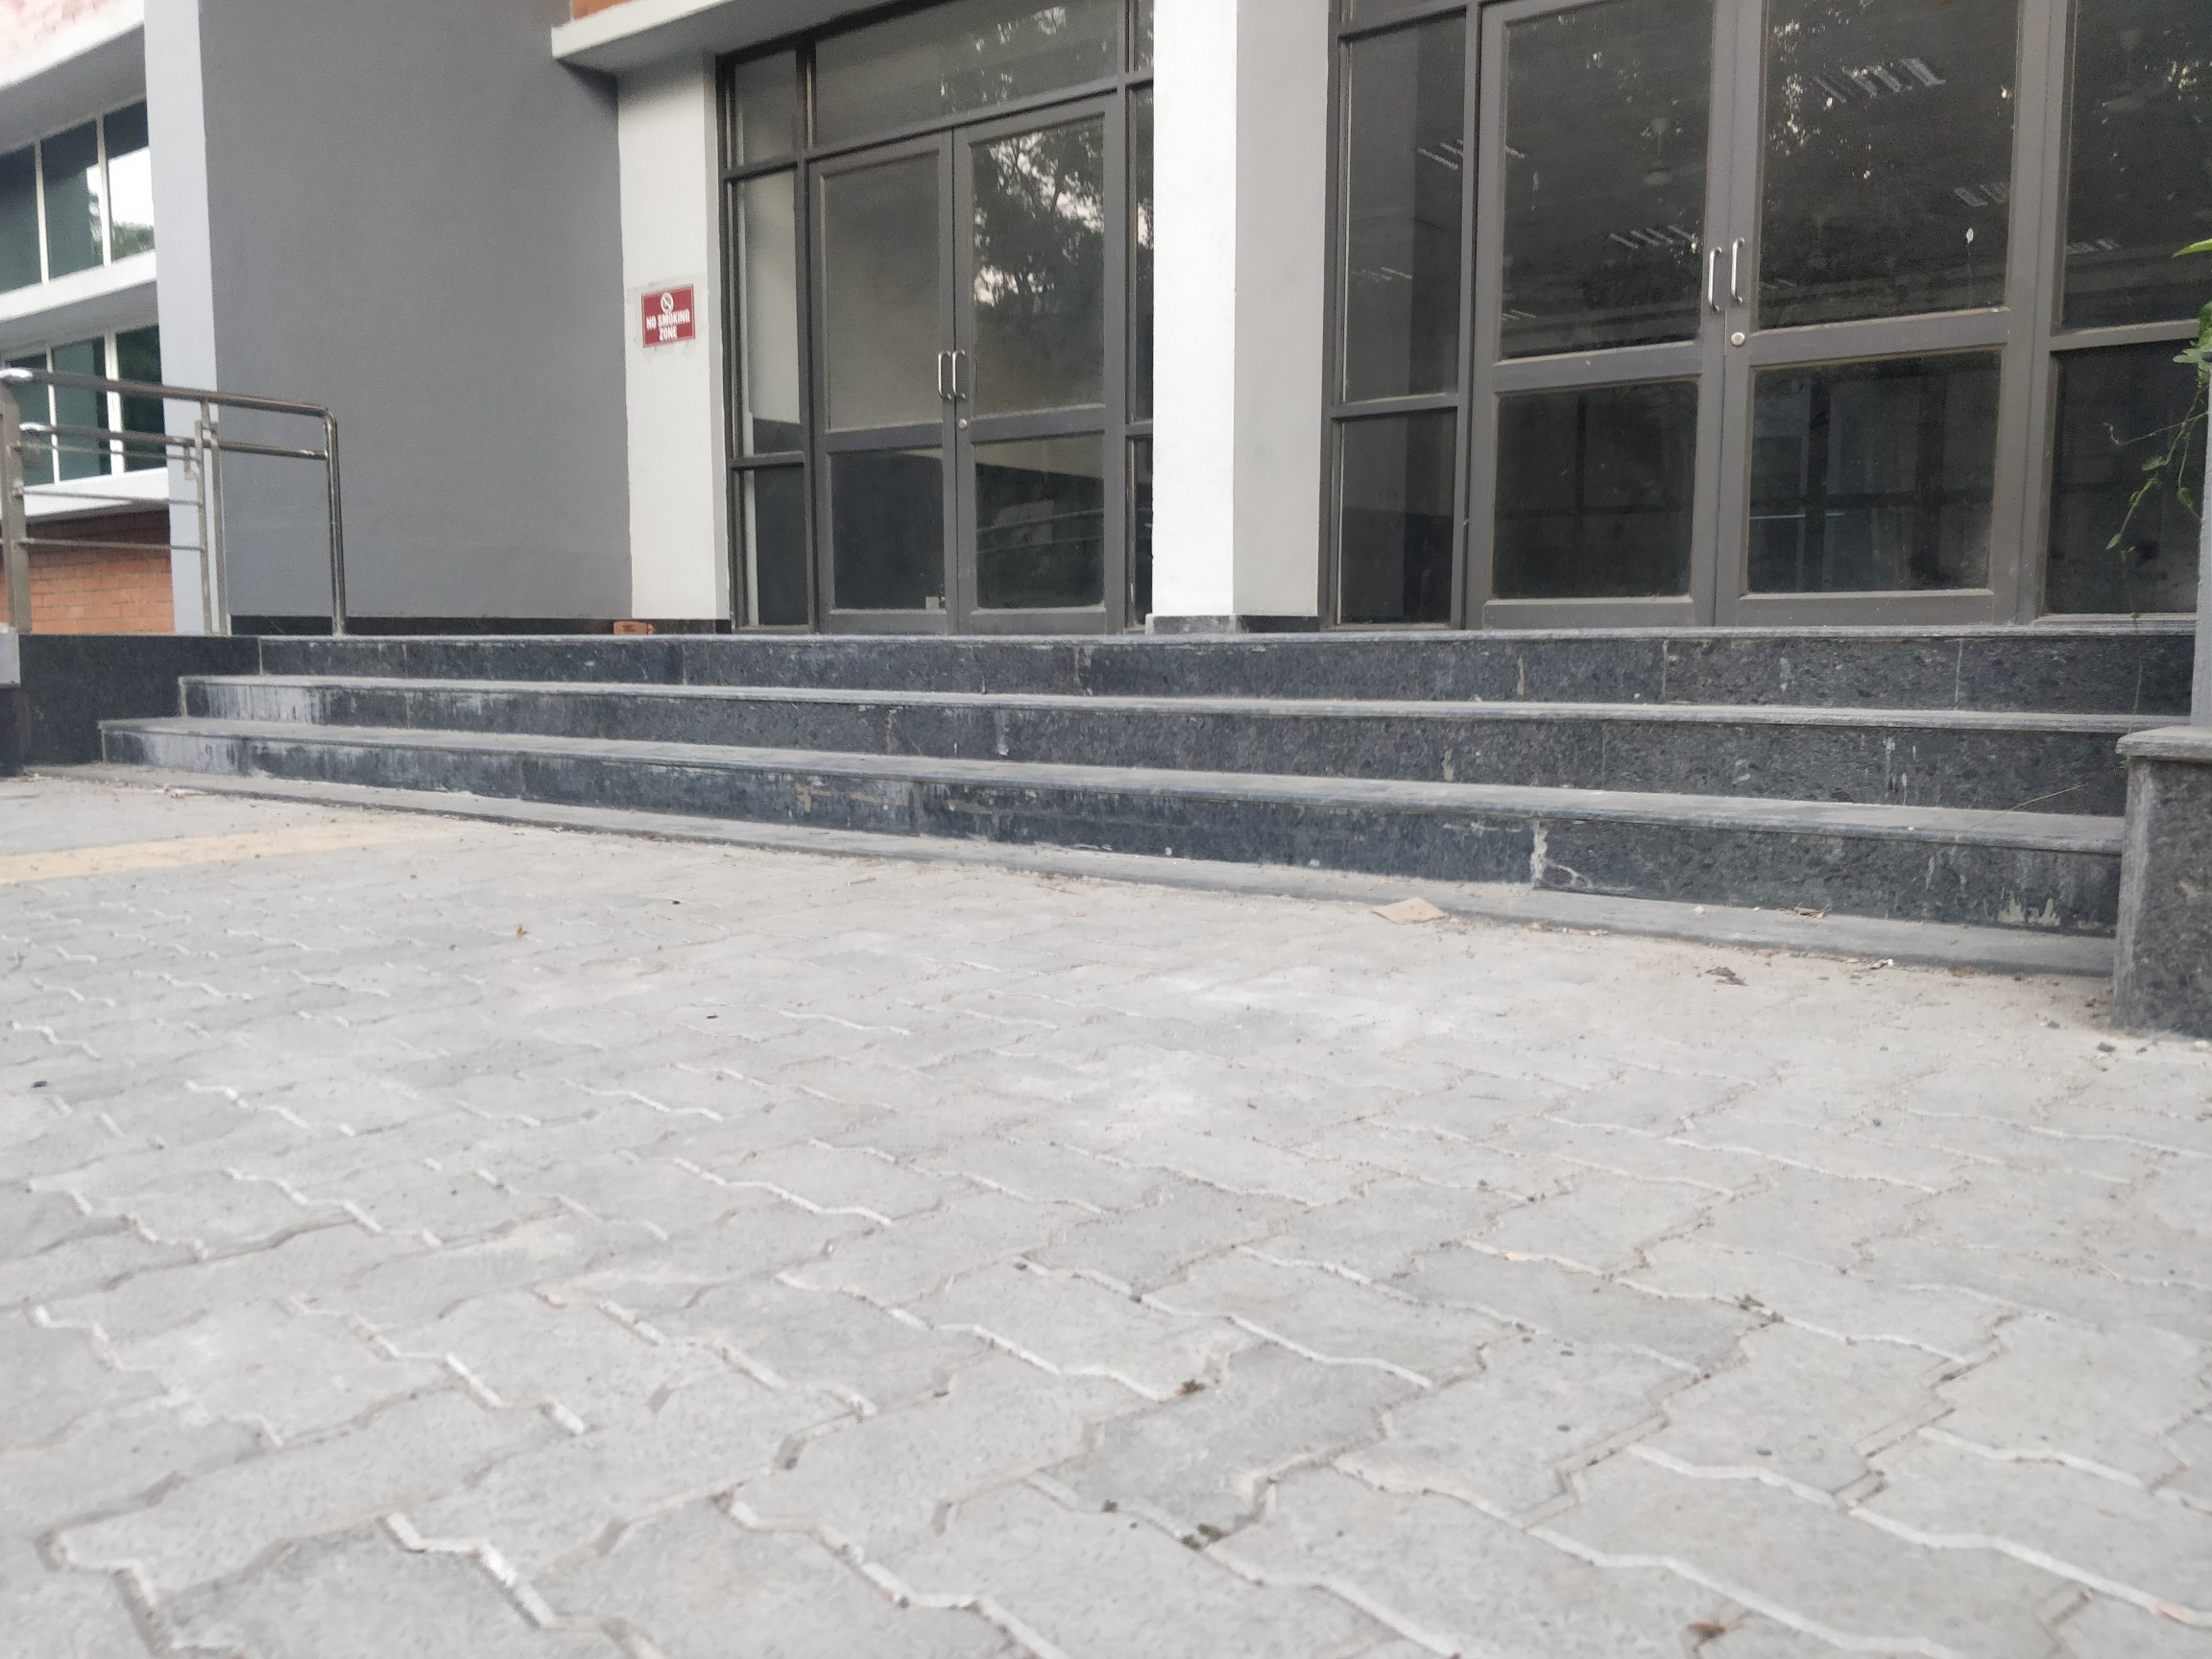stairs_up: (87, 605, 2167, 816)
